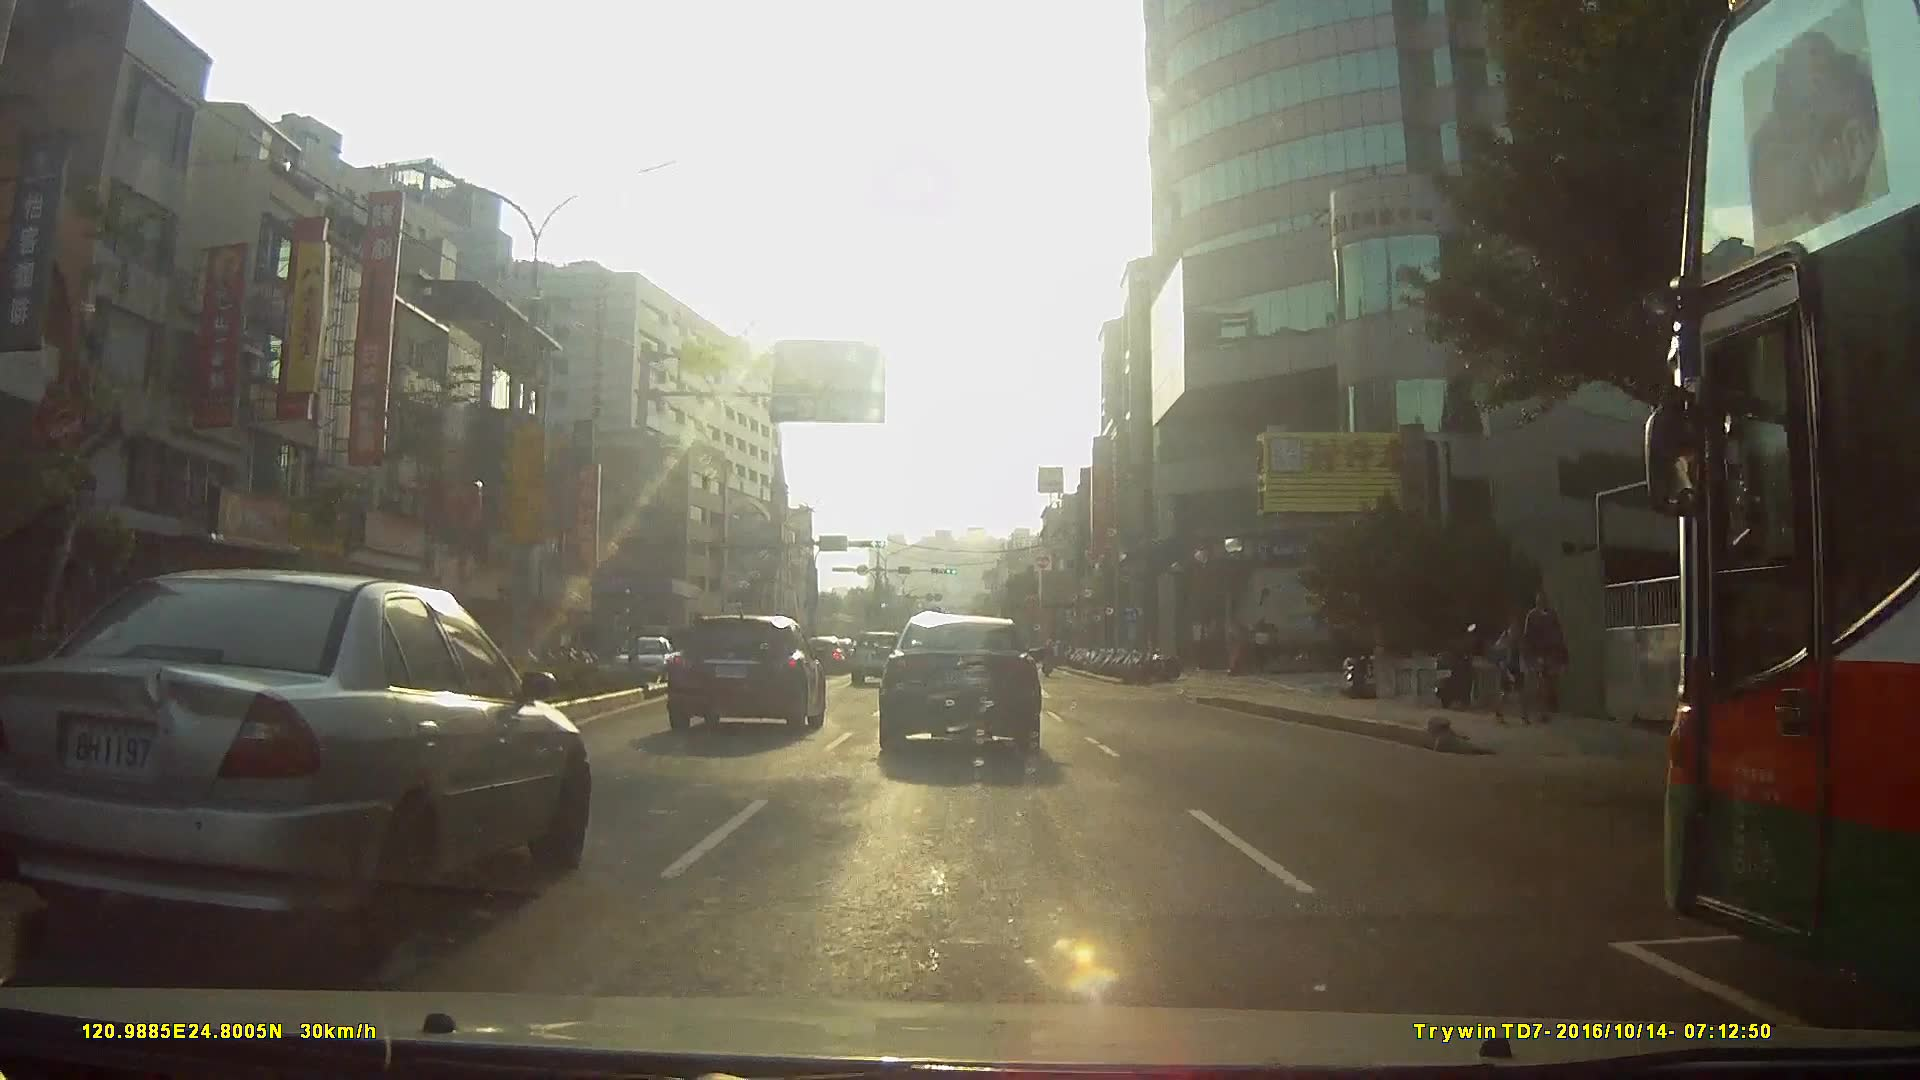pedestrian: (1514, 588, 1567, 724), (1488, 610, 1539, 724)
vehicle: (1560, 1, 1920, 994), (0, 566, 591, 955), (873, 612, 1040, 758), (665, 614, 827, 736), (846, 628, 906, 683), (615, 633, 676, 685)
